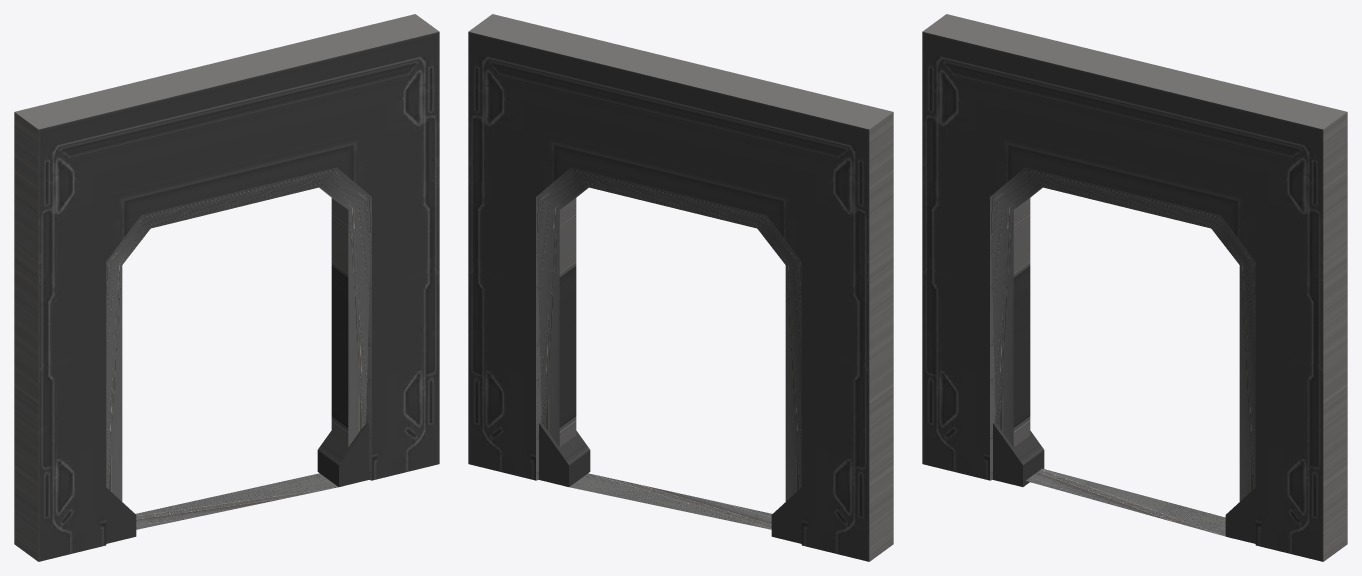
File: core_door_lod2.glb
3 renders of one model, left to right at view 1: azimuth 30°, elevation 25°; view 2: azimuth 150°, elevation 25°; view 3: azimuth 330°, elevation 25°, orthographic.
Visible parts, largest first — view 1: Door_Frame_Square; view 2: Door_Frame_Square; view 3: Door_Frame_Square.
Part boxes in pixels (x1,y1,x2,y2): Door_Frame_Square: (14,14,439,561); Door_Frame_Square: (468,14,893,561); Door_Frame_Square: (922,14,1347,561).
Bounding box in the file's own units: 4.85 × 5.01 × 0.5067.
1 material, 1 textured.
